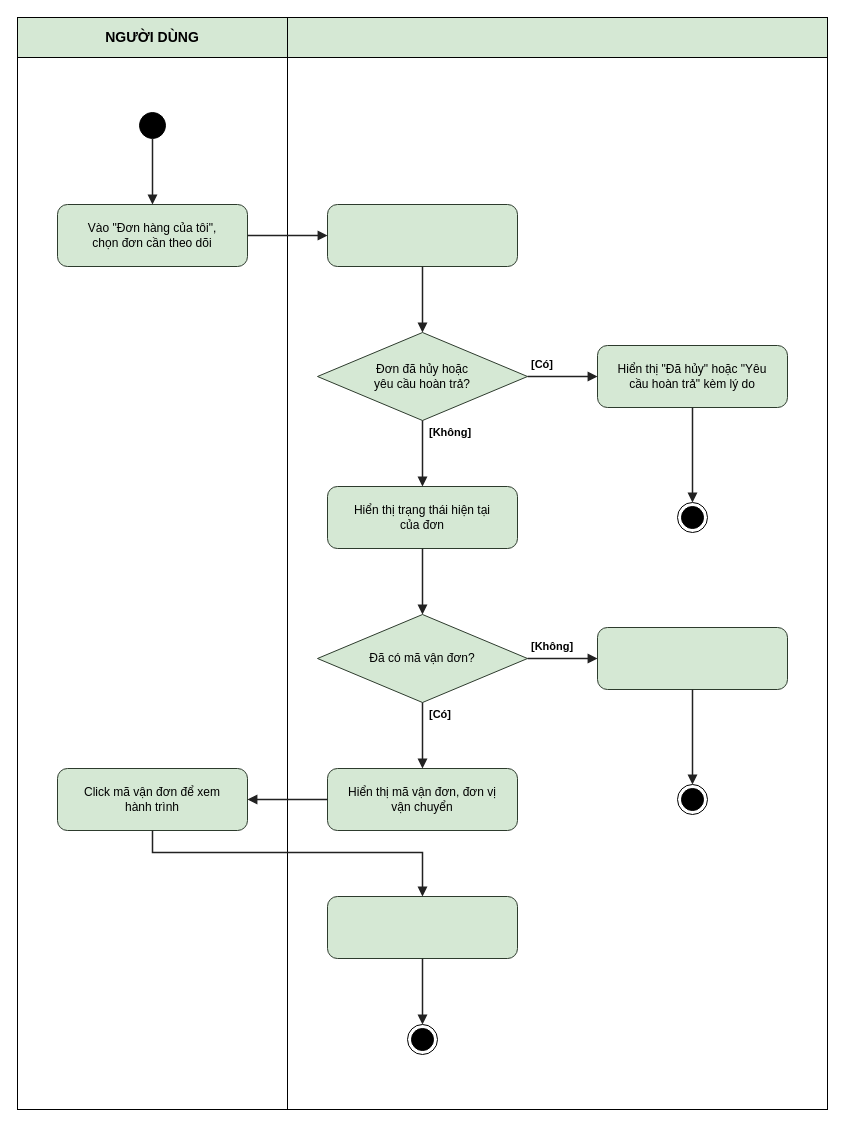
Some shapes in this 845 by 1127 pixel diagram are drawn without their labels. Here are the shapes that lost their labels. From the top down, the centre of each, then its label:
the point at 557,37: HỆ THỐNG
the point at 422,235: Truy vấn trạng thái đơn hàng
the point at 692,658: Hiển thị "Đơn hàng đang được chuẩn bị"
the point at 422,927: Hiển thị hành trình vận chuyển
